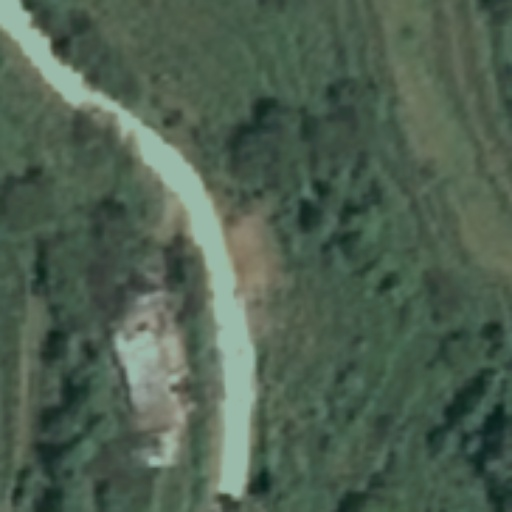landslide: (222, 208, 294, 297)
